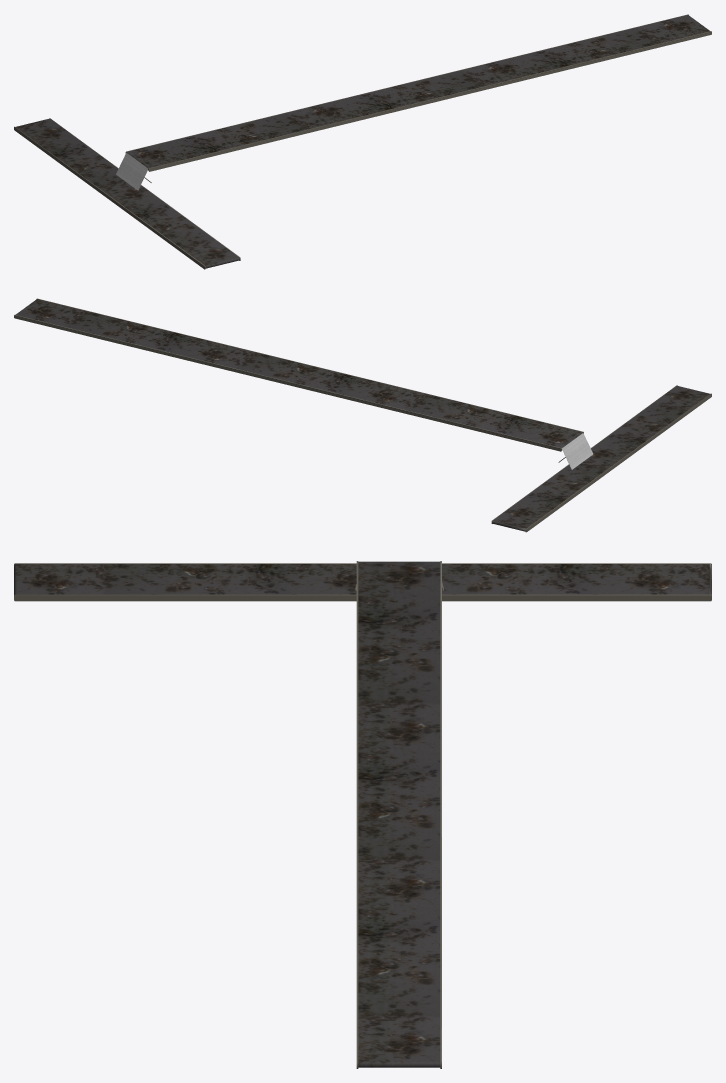
The model's file is shikeng.FBX.
The picture shows the model from 3 angles, top to bottom: view 1: azimuth 30°, elevation 25°; view 2: azimuth 150°, elevation 25°; view 3: azimuth 270°, elevation 25°; orthographic projection. The views are drawn at different scales.
Parts seen in each view (by area): view 1: shikeng_01, shikeng_02, shikeng_03; view 2: shikeng_01, shikeng_02, shikeng_03; view 3: shikeng_01, shikeng_02.
Boxes of the visible parts, x1,y1,x2,y2 form: shikeng_01: (125,14,711,171); shikeng_02: (14,118,240,269); shikeng_03: (116,152,151,190); shikeng_01: (14,298,583,451); shikeng_02: (491,385,711,532); shikeng_03: (558,433,593,469); shikeng_01: (356,561,441,1068); shikeng_02: (14,563,711,601).
Bounding box in the file's own units: 4153 × 154 × 2285.
Materials: 1 (1 with a texture image).
